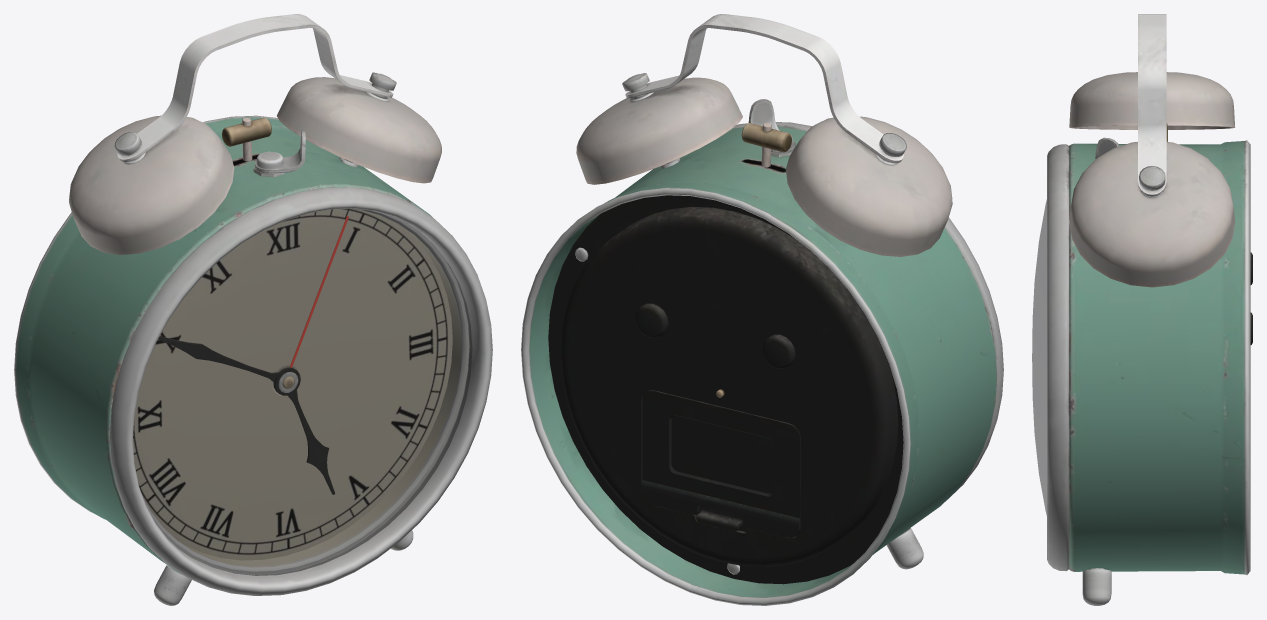
The model's file is alarm-clock-01.glb.
3 renders of one model, left to right at view 1: azimuth 30°, elevation 25°; view 2: azimuth 150°, elevation 25°; view 3: azimuth 270°, elevation 25°, orthographic. The views are drawn at different scales.
Visible parts, largest first — view 1: alarm_clock_01, alarm_clock_01_glass; view 2: alarm_clock_01; view 3: alarm_clock_01, alarm_clock_01_glass.
Boxes of the visible parts, x1=… form: alarm_clock_01: x1=14, y1=14, x2=492, y2=605; alarm_clock_01_glass: x1=133, y1=209, x2=472, y2=575; alarm_clock_01: x1=521, y1=14, x2=1003, y2=605; alarm_clock_01: x1=1047, y1=14, x2=1252, y2=605; alarm_clock_01_glass: x1=1032, y1=200, x2=1046, y2=515.
Bounding box in the file's own units: 0.1317 × 0.1742 × 0.0667.
2 materials, 1 textured.
